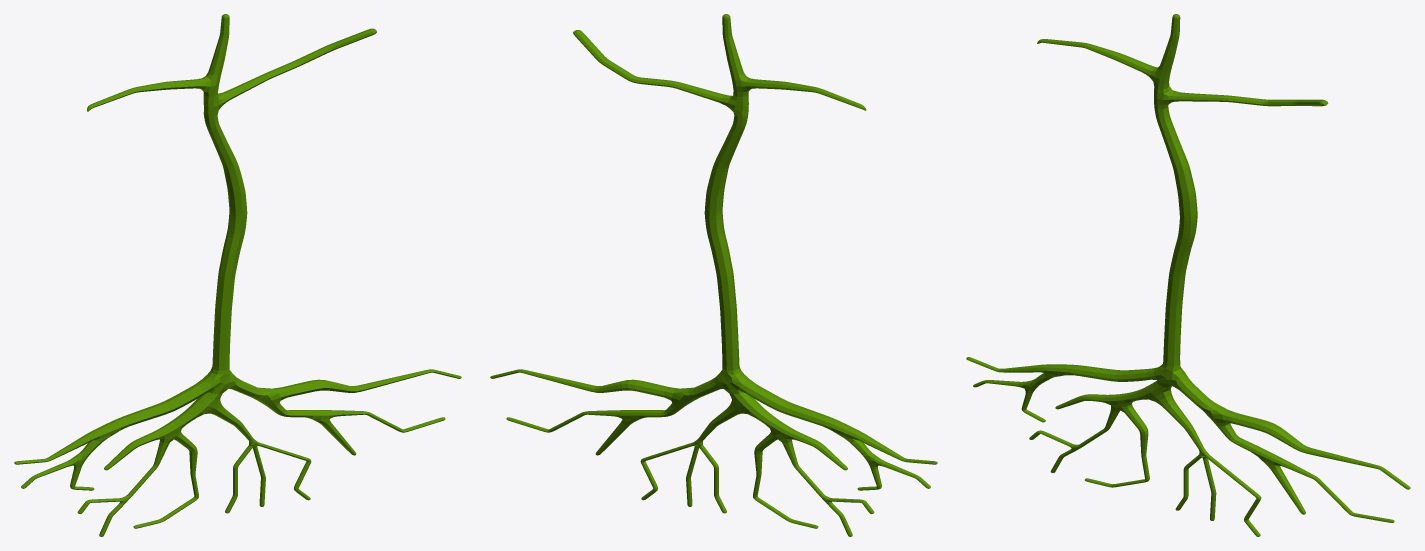
The model's file is edible parts of plants4.gltf.
3 views of the same model, side by side, from view 1: azimuth 30°, elevation 25°; view 2: azimuth 150°, elevation 25°; view 3: azimuth 330°, elevation 25° (orthographic).
Visible parts, largest first — view 1: Cube; view 2: Cube; view 3: Cube.
Boxes of the visible parts, x1=… form: Cube: x1=14, y1=14, x2=461, y2=536; Cube: x1=490, y1=14, x2=937, y2=536; Cube: x1=966, y1=14, x2=1410, y2=536.
Bounding box in the file's own units: 3.64 × 3.94 × 0.2502.
